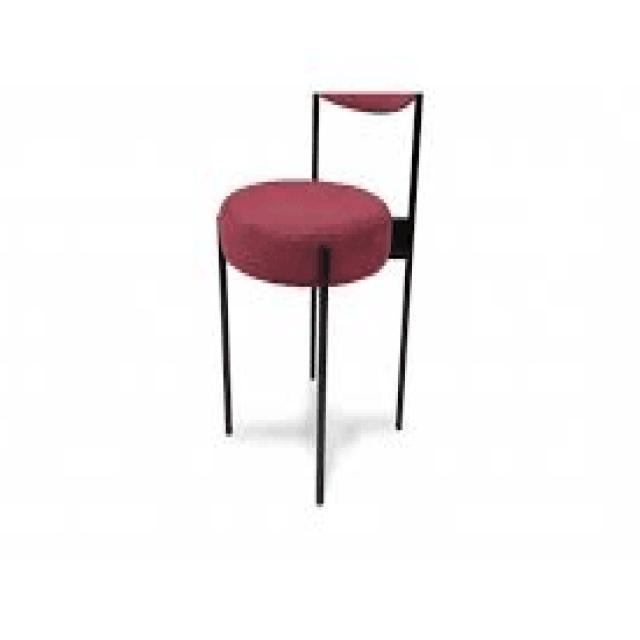chair: (211, 85, 427, 509), (216, 92, 420, 290)
